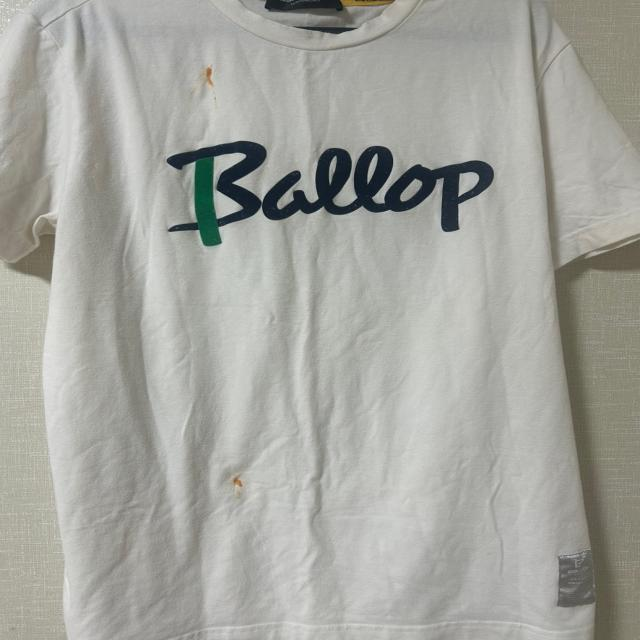stain: (225, 467, 252, 496), (196, 64, 221, 90)
